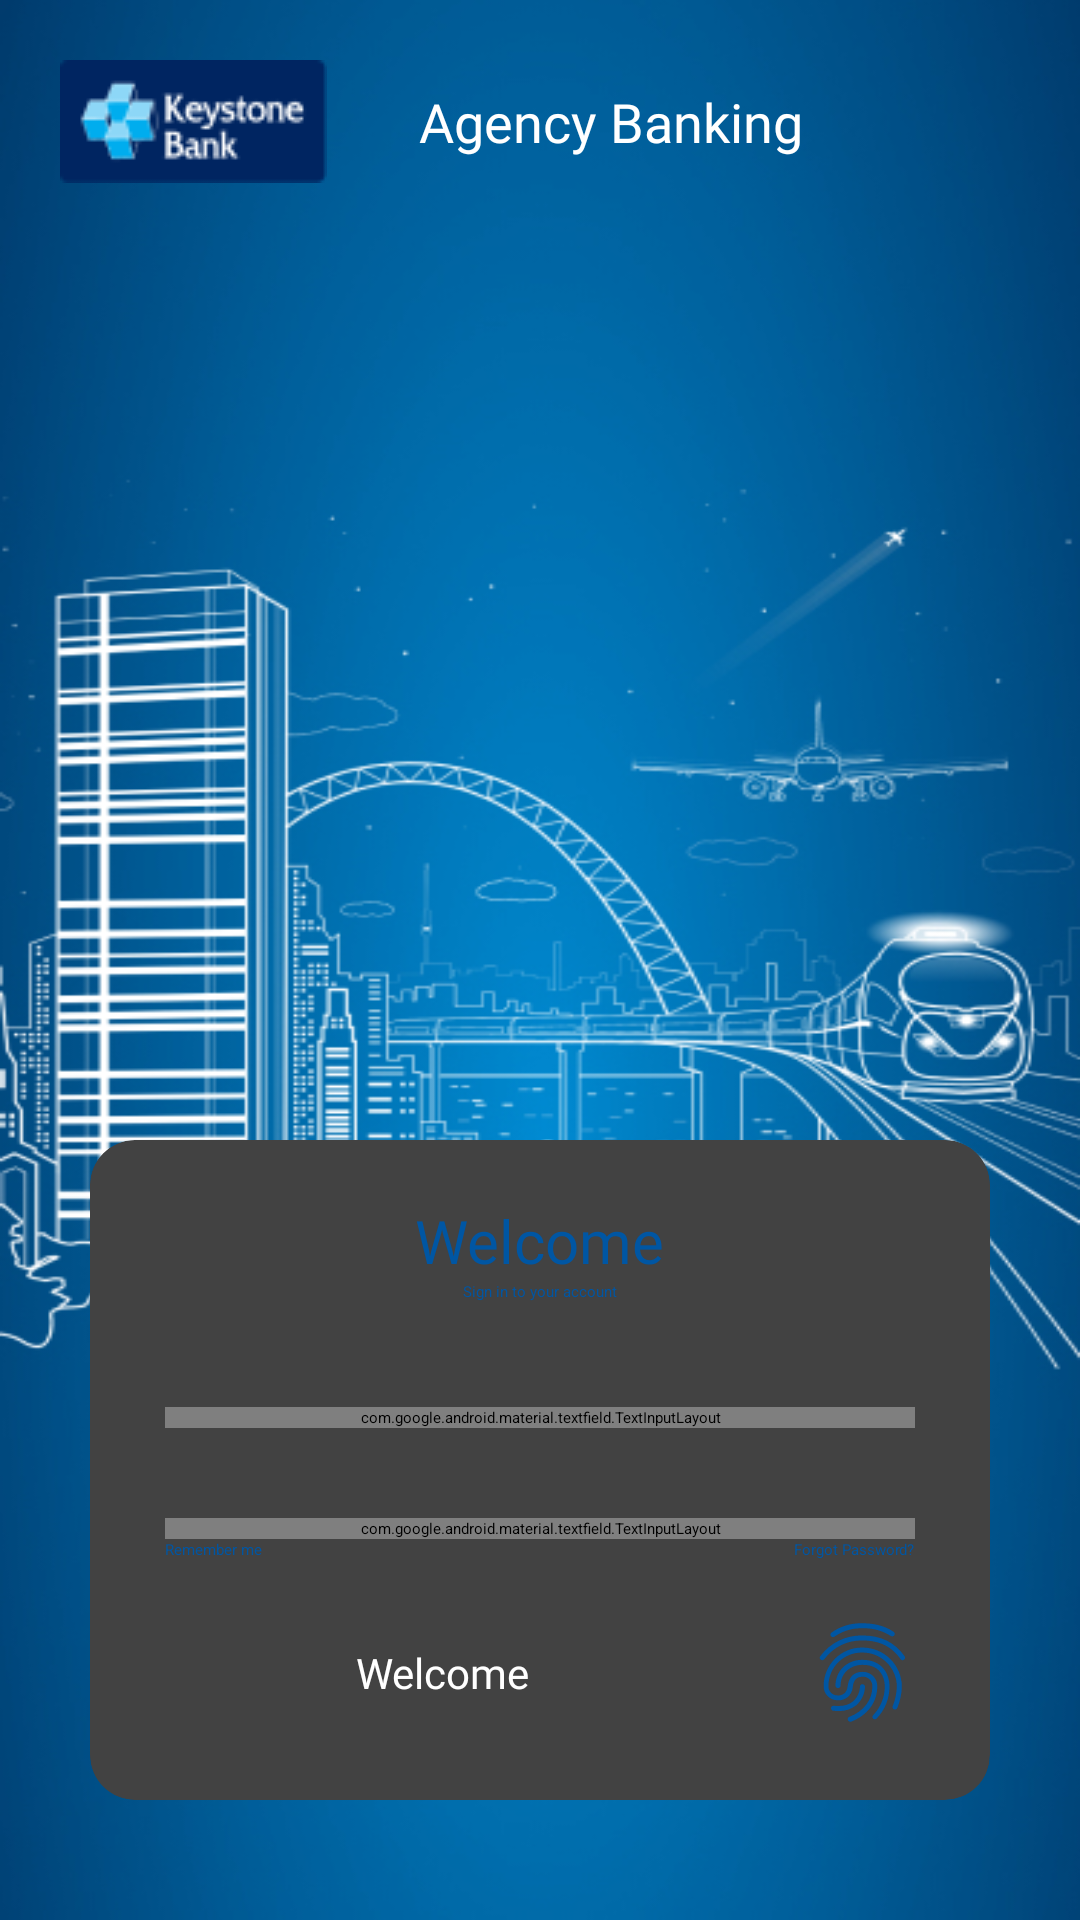

Icons on this 1080*1920 Android screen, each with the point to tap as point (x, y):
Unlock using fingerprint: point (862, 1672)
